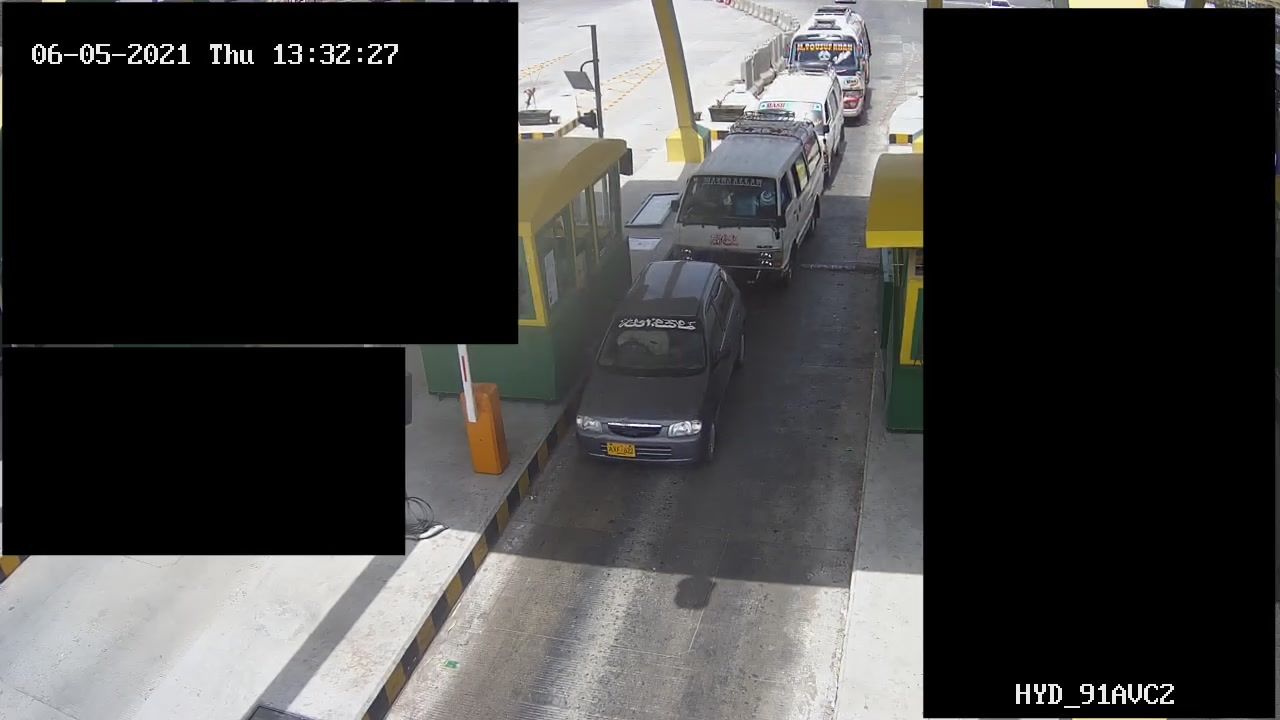F1: (555, 255, 741, 472)
F2: (673, 117, 822, 289)
